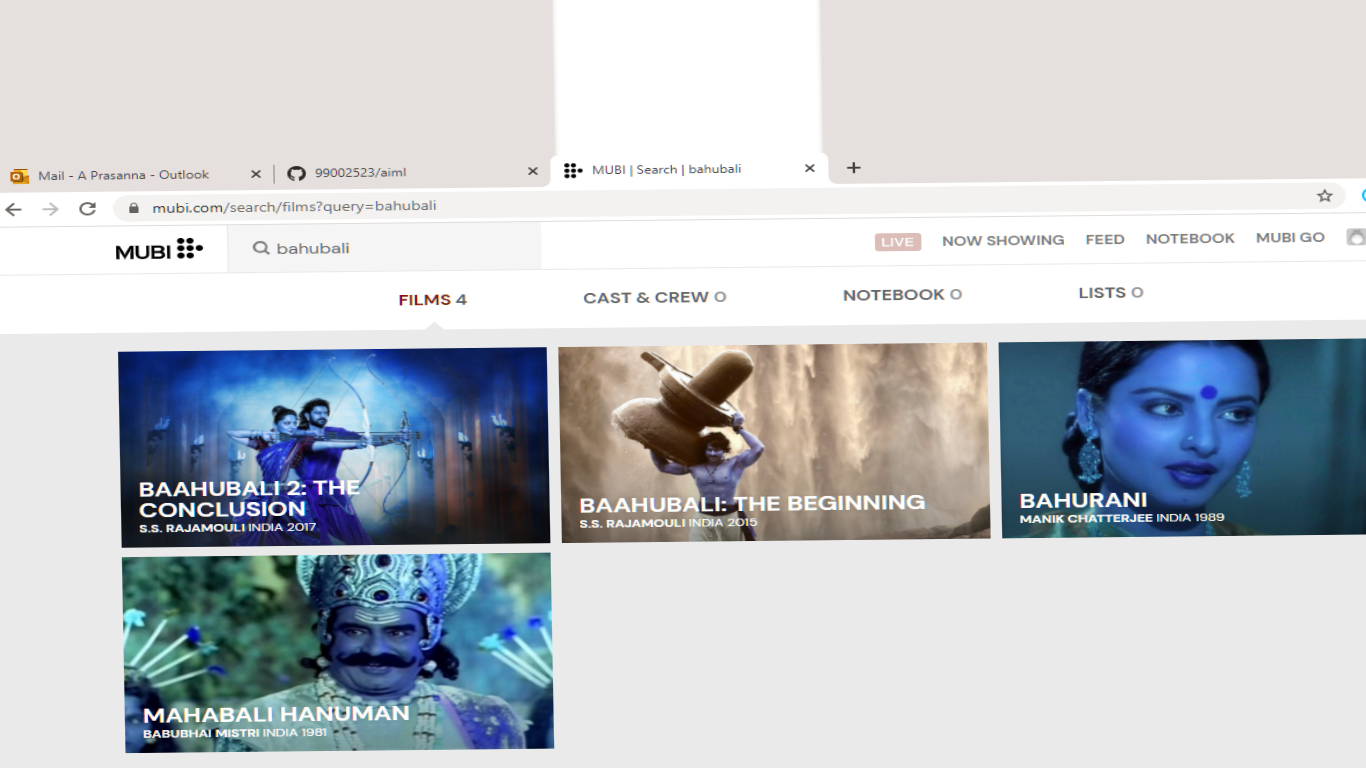profileicon: (1342, 225, 1366, 243)
searchicon: (249, 230, 274, 272)
searchtextbox: (222, 227, 540, 272)
